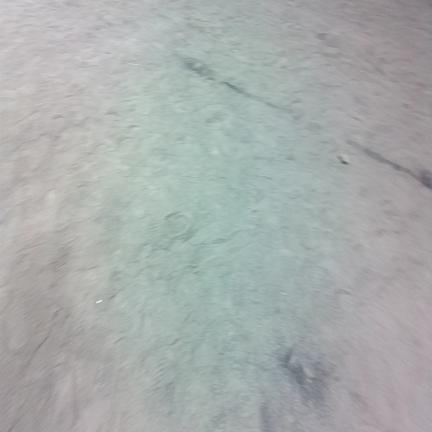Rock: (338, 153, 350, 164)
